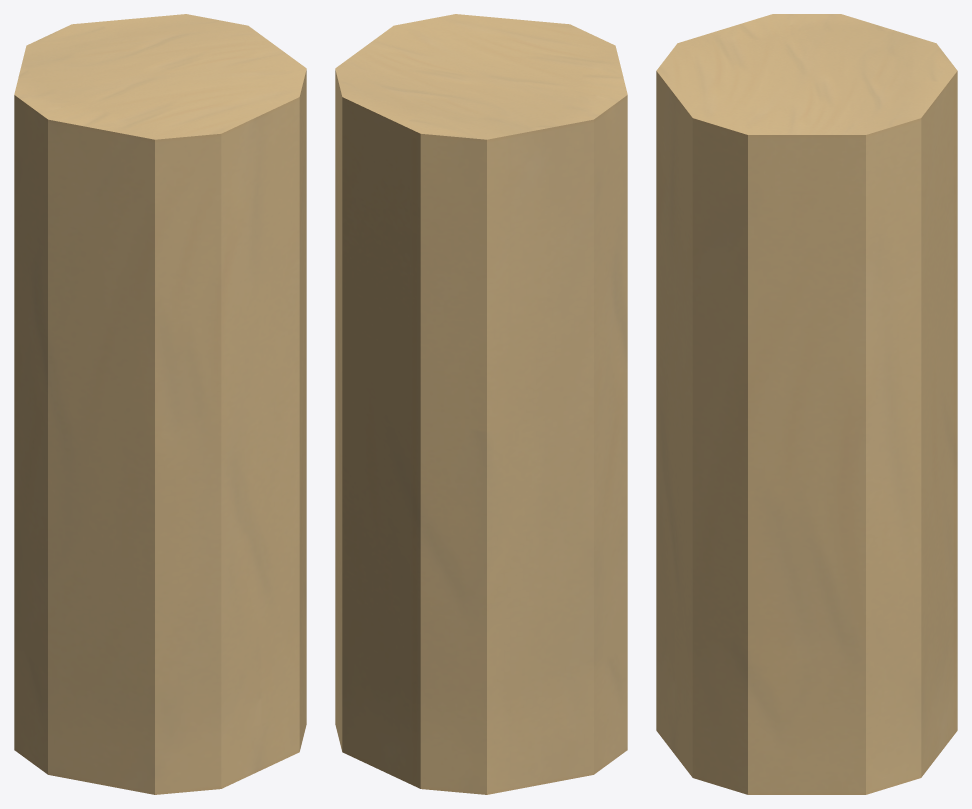
The model's file is ColumnA.FBX.
3 views of the same model, side by side, from view 1: azimuth 30°, elevation 25°; view 2: azimuth 150°, elevation 25°; view 3: azimuth 270°, elevation 25° (orthographic).
Parts seen in each view (by area): view 1: ColumnA; view 2: ColumnA; view 3: ColumnA.
Boxes of the visible parts, left/top/right/bottom form: ColumnA: left=14, top=14, right=306, bottom=794; ColumnA: left=335, top=14, right=627, bottom=794; ColumnA: left=656, top=14, right=957, bottom=794.
Bounding box in the file's own units: 7.87 × 8.27 × 20.
1 material, 1 textured.
